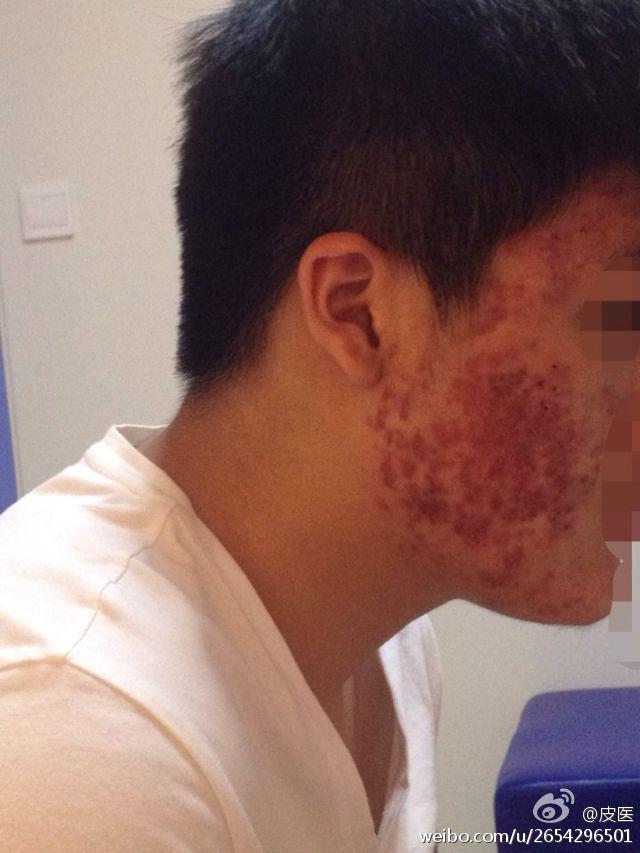fore: (473, 555, 517, 595), (399, 527, 433, 570), (558, 436, 587, 483), (485, 417, 515, 457), (485, 536, 524, 566), (477, 453, 511, 487), (530, 572, 564, 604), (449, 461, 481, 495), (452, 343, 490, 368), (519, 360, 543, 398), (369, 455, 396, 487), (411, 438, 445, 462), (456, 510, 477, 548), (369, 392, 392, 426), (515, 283, 541, 313), (388, 472, 418, 498), (492, 372, 517, 402), (520, 449, 545, 478), (373, 425, 405, 447), (517, 481, 539, 513), (426, 470, 454, 495), (587, 207, 617, 230), (390, 381, 413, 411), (375, 375, 407, 396), (430, 496, 456, 521), (483, 273, 505, 302), (492, 493, 515, 519), (549, 370, 570, 398), (471, 302, 500, 322), (549, 510, 568, 538), (456, 434, 479, 455), (562, 493, 577, 525), (477, 400, 496, 425), (568, 222, 604, 235), (488, 338, 511, 358), (372, 488, 392, 511), (398, 451, 416, 476), (456, 389, 477, 409), (553, 260, 568, 287), (404, 509, 425, 528), (547, 232, 562, 256), (414, 375, 435, 392), (575, 466, 589, 491), (547, 457, 558, 487), (515, 228, 534, 245), (509, 404, 526, 423), (429, 421, 450, 436), (536, 395, 554, 412), (556, 399, 574, 416), (446, 374, 463, 392), (523, 335, 540, 352), (413, 493, 428, 512), (569, 593, 586, 609), (563, 423, 580, 438), (475, 513, 488, 532), (530, 423, 543, 442), (518, 524, 537, 536), (548, 292, 565, 305), (549, 359, 562, 375), (531, 539, 547, 552), (456, 418, 470, 431), (412, 360, 426, 373)
